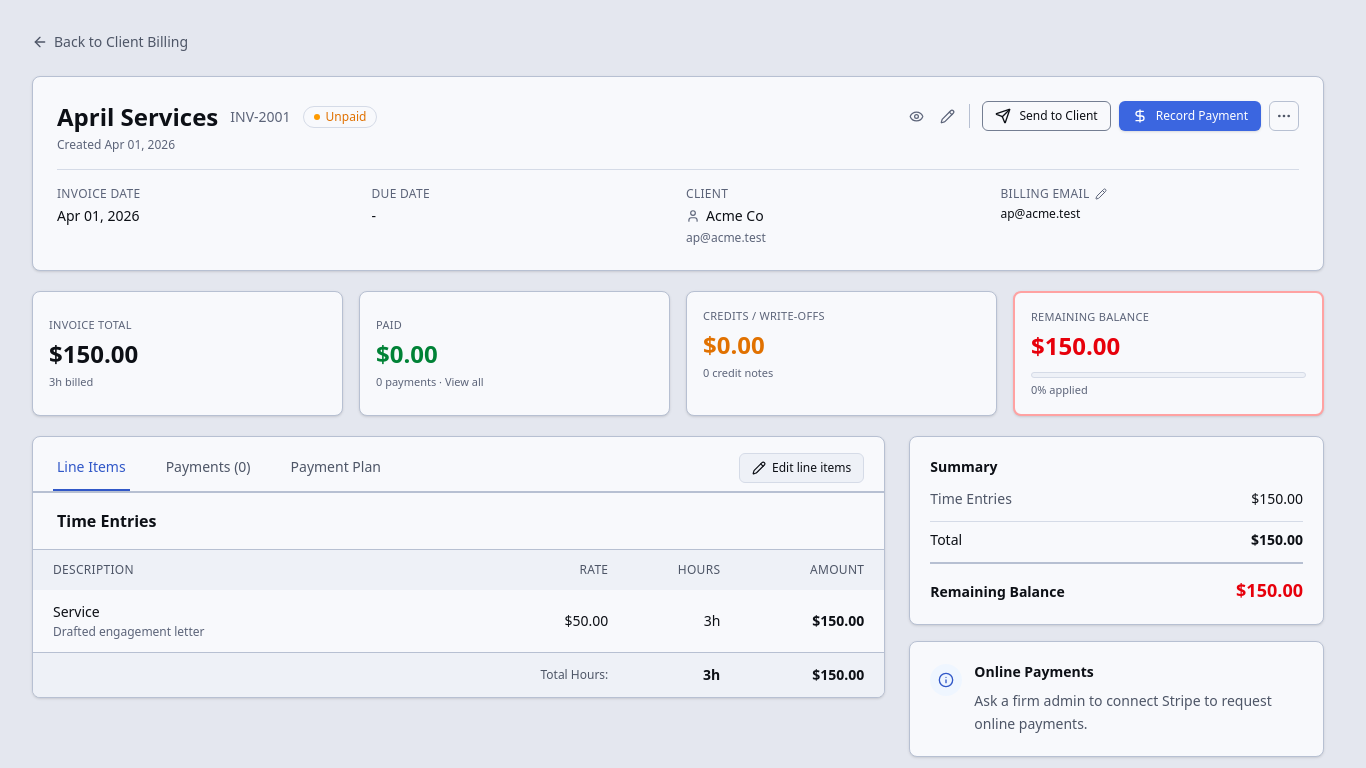
Test: a firm without Stripe › offers no payment link from a plan row
The image size is (1366, 768).
Click the button "Payment Plan" at (336, 468), box [287,445,385,491]
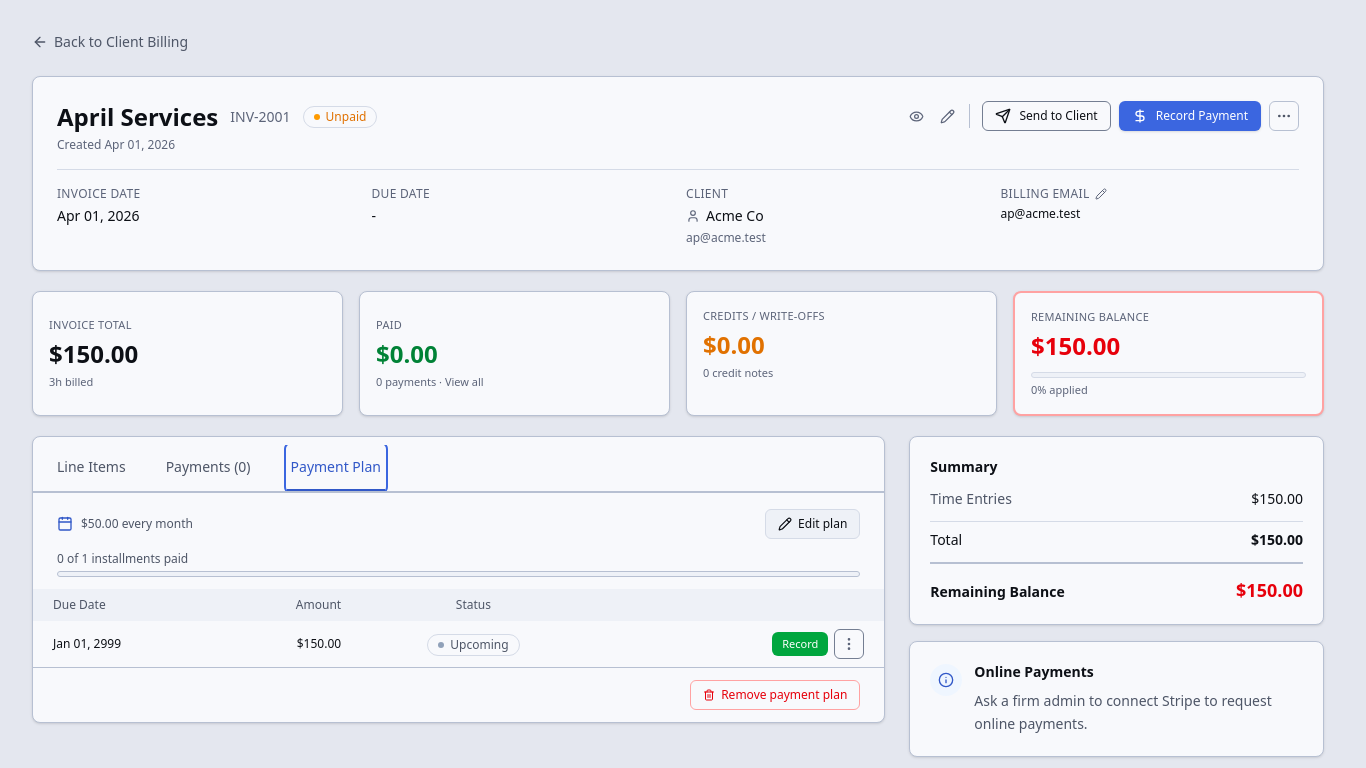
Click the button named "More installment actions" at (849, 644), box [834,629,864,659]
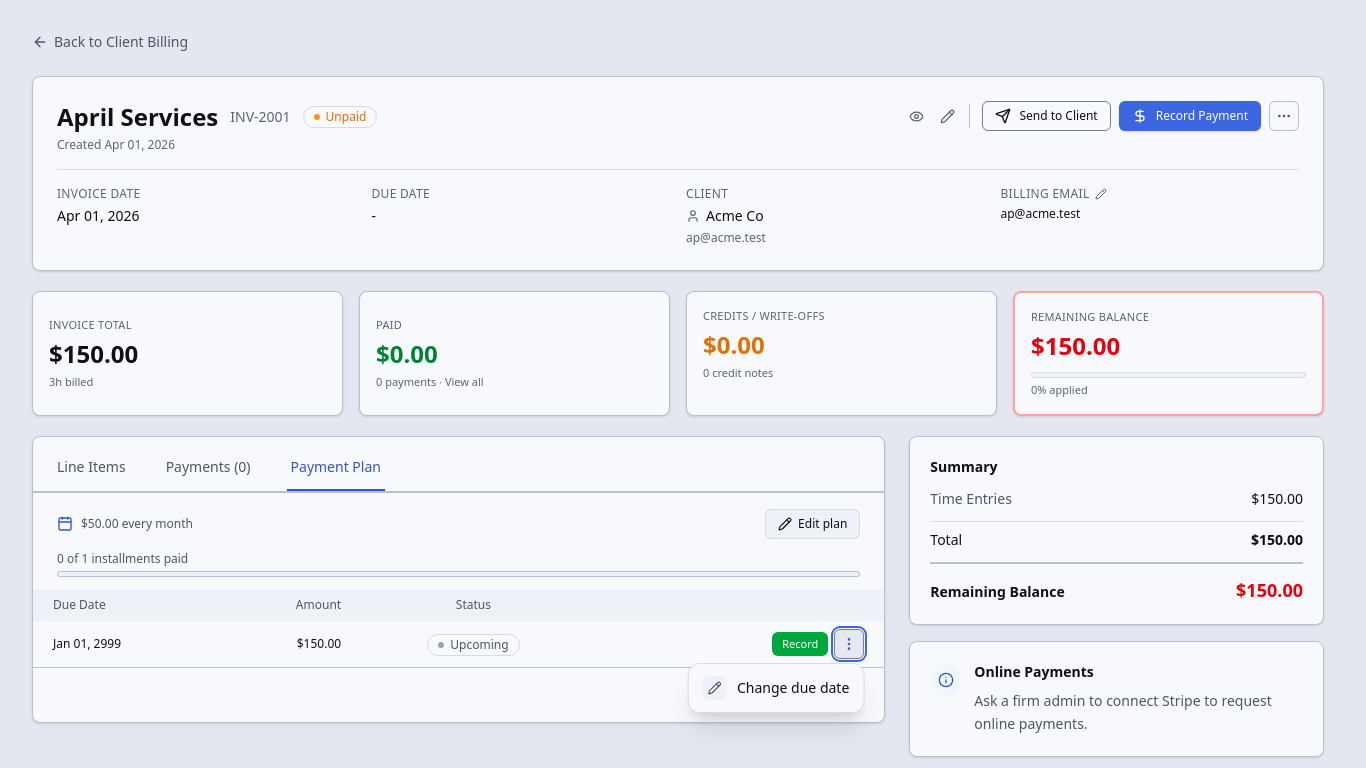
expect the menu item "Change due date" is shown: met, box [693,668,859,708]
